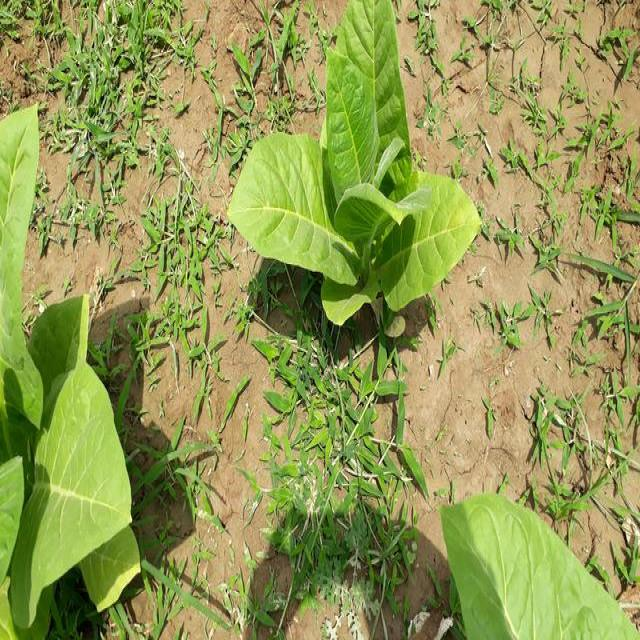crop: (226, 0, 492, 348), (0, 101, 143, 637), (446, 493, 640, 640)
